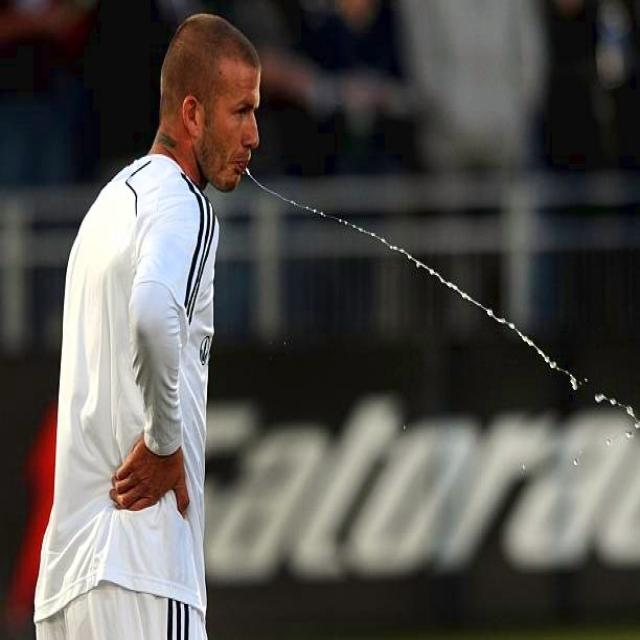Spitting: (156, 12, 293, 265)
